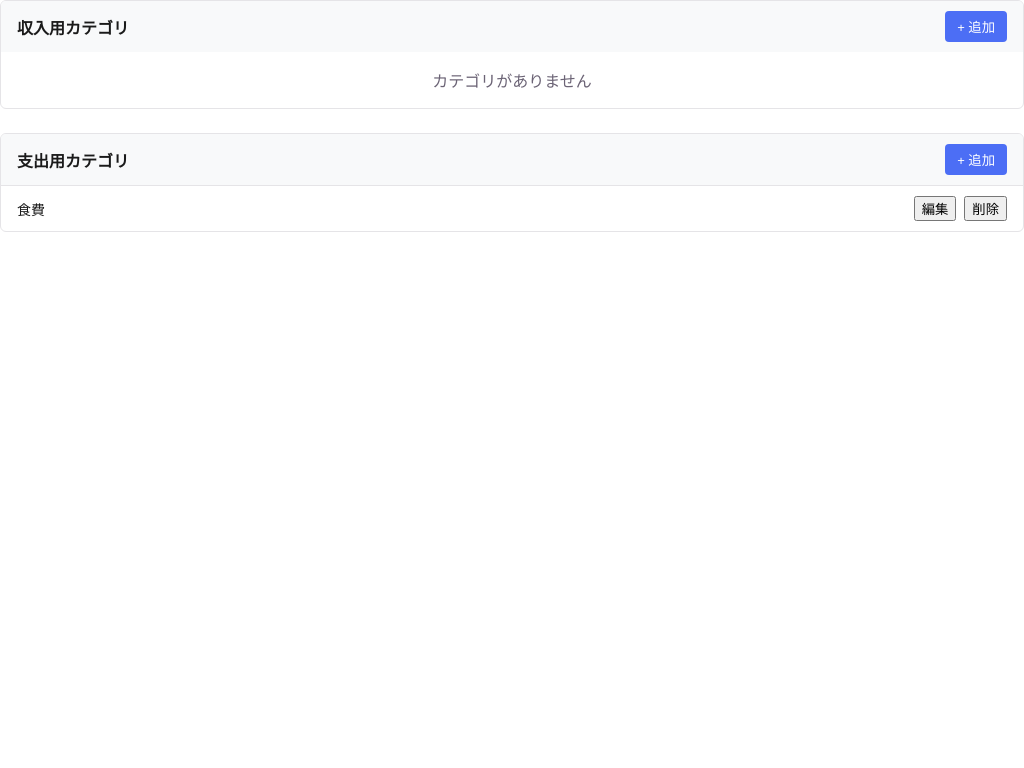
Test: CategoryManagementPage › shows the in-use error and keeps the category in the list when delete returns 409
Check: the text "食費" is shown, box [17,198,45,218]
Click the button "削除" at (986, 208), box [964,196,1007,221]
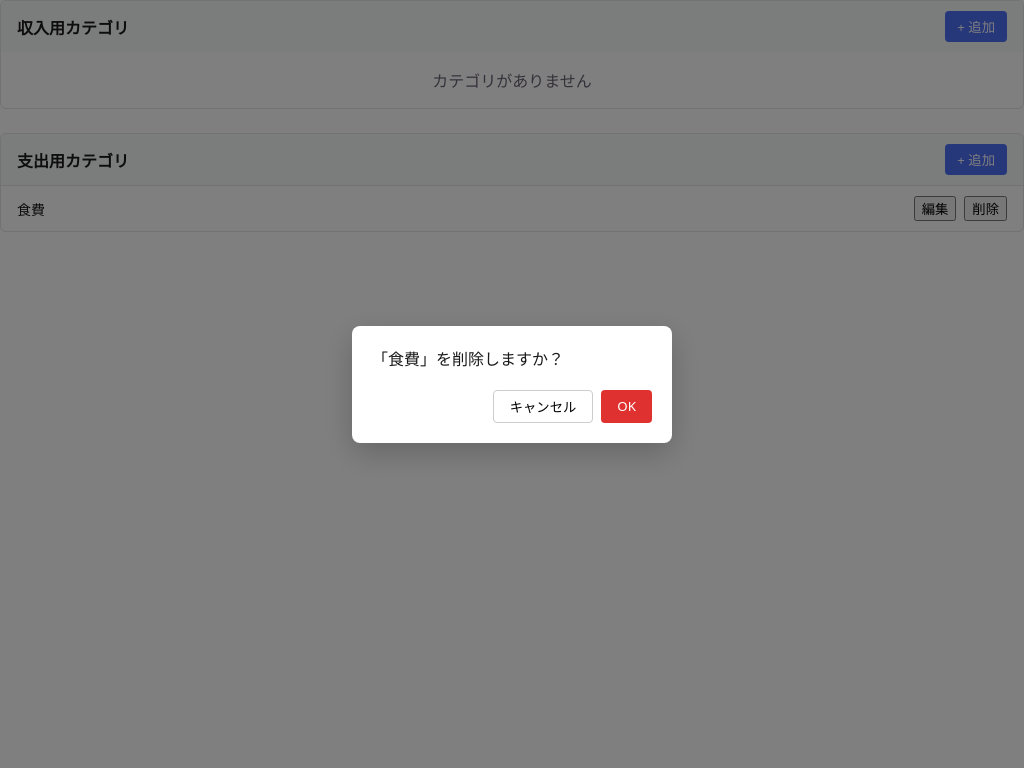
Click the button "OK" at (627, 406), box [601,390,652,422]
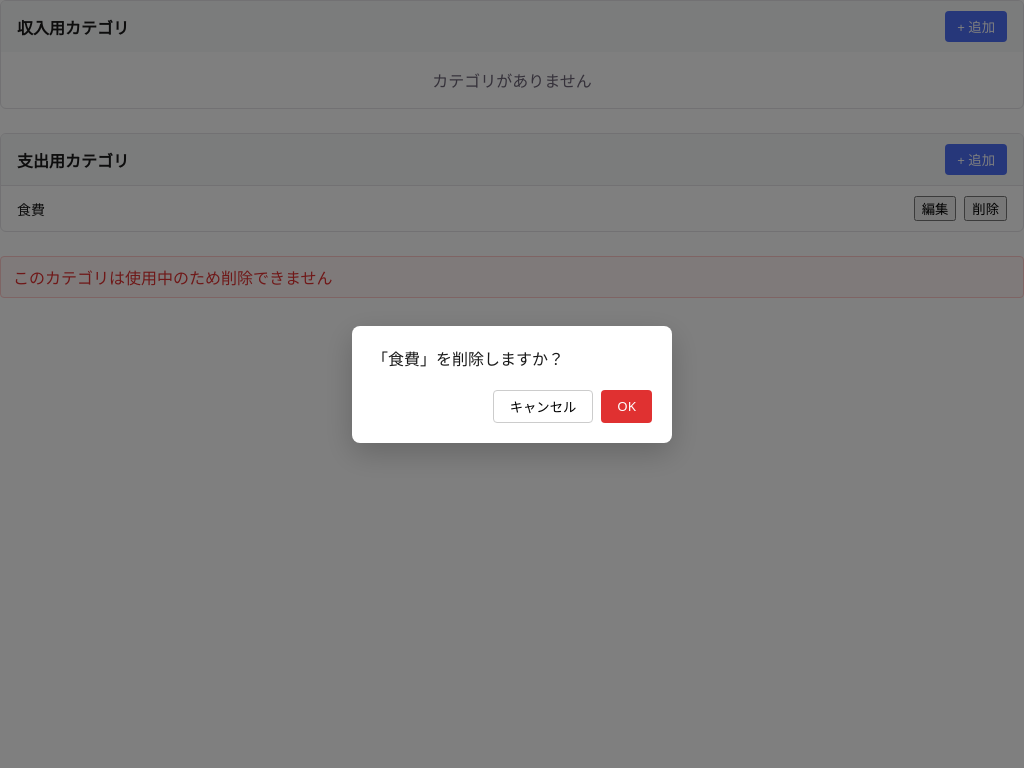
Check: the text "食費" is shown, box [17,198,45,218]
Check: the text "このカテゴリは使用中のため削除できません" is shown, box [0,256,1023,298]
